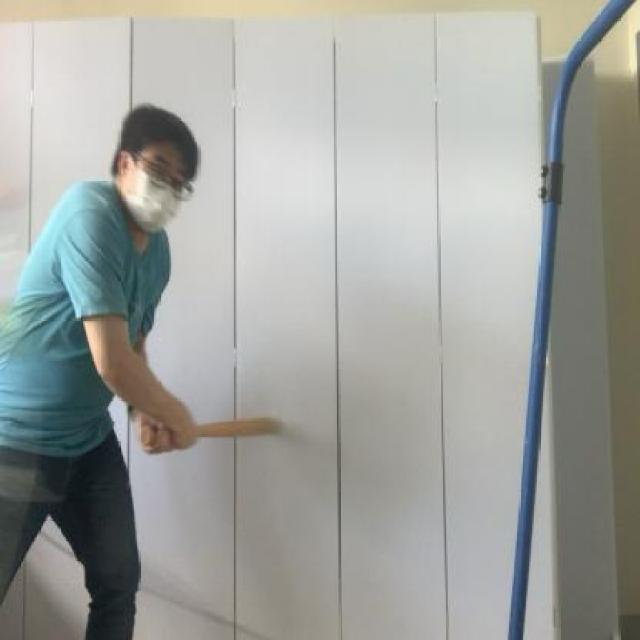baseball: (0, 281, 58, 361)
